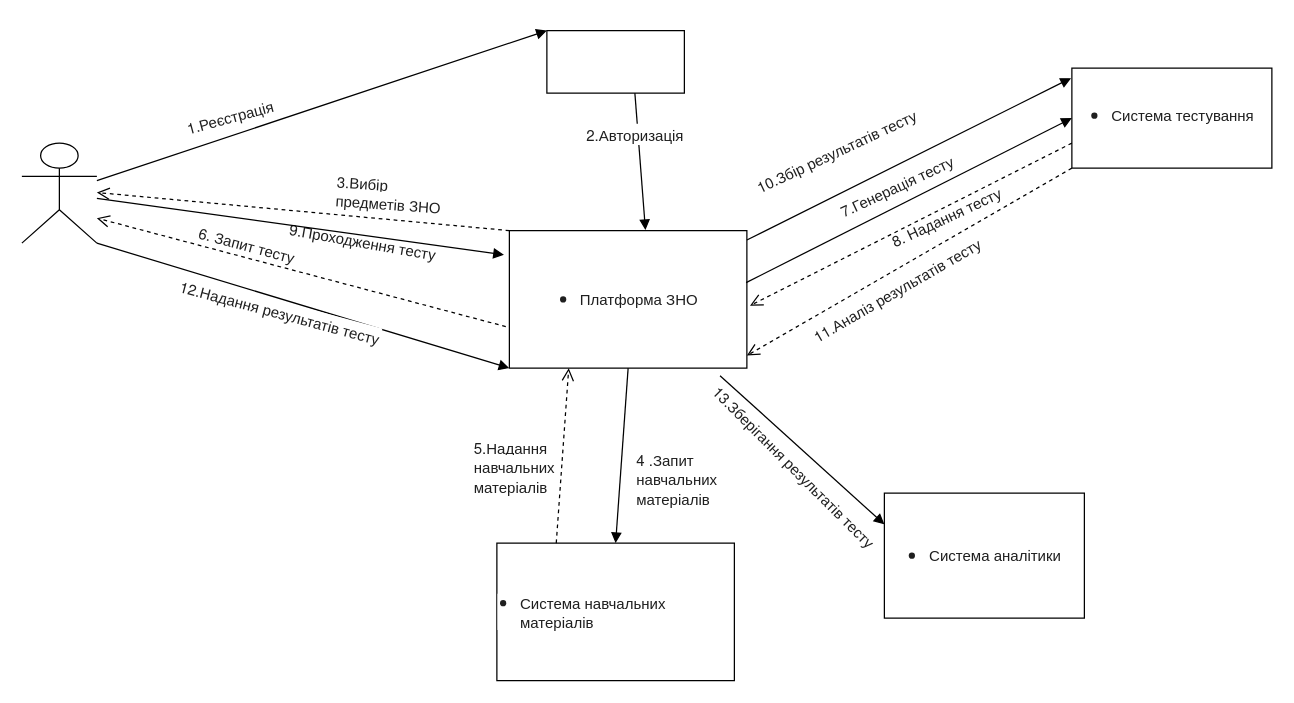
Image size: 1294x703. Some labels were removed from this diagram. The shapes that lost their labels are listed below. From the top down, each one's centre as x and y in pixels, then its label:
(x=615, y=61): Система реєстрації
(x=59, y=192): Випускник
